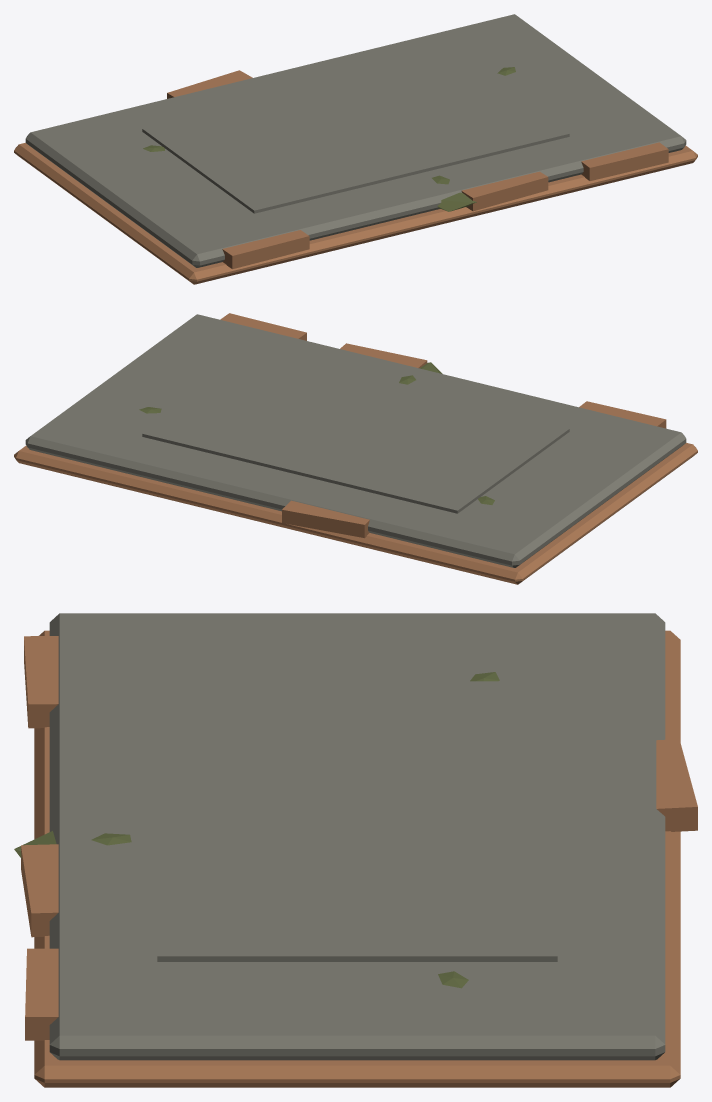
The model's file is prop_path_stone_slab_a.glb.
The picture shows the model from 3 angles, top to bottom: view 1: azimuth 30°, elevation 25°; view 2: azimuth 150°, elevation 25°; view 3: azimuth 270°, elevation 25°; orthographic projection. The views are drawn at different scales.
Visible parts, largest first — view 1: slab_body, slab_bed; view 2: slab_body, slab_bed; view 3: slab_body, slab_bed.
Part boxes in pixels (<box>): slab_body: <box>25,14,686,267</box>; slab_bed: <box>14,70,697,284</box>; slab_body: <box>25,314,686,567</box>; slab_bed: <box>14,313,697,584</box>; slab_body: <box>14,613,665,1060</box>; slab_bed: <box>21,630,697,1087</box>.
Bounding box in the file's own units: 1.04 × 0.056 × 0.6775.
